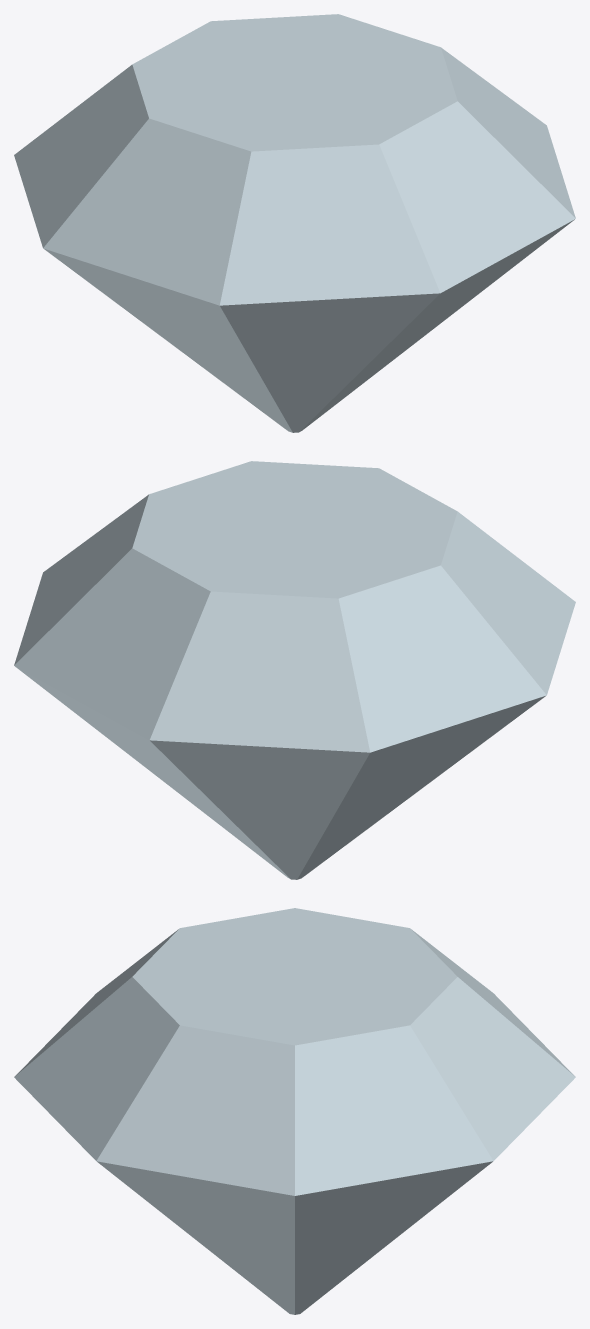
File: Diamond.fbx
3 renders of one model, top to bottom at view 1: azimuth 30°, elevation 25°; view 2: azimuth 150°, elevation 25°; view 3: azimuth 270°, elevation 25°, orthographic. The views are drawn at different scales.
Visible parts, largest first — view 1: Diamond; view 2: Diamond; view 3: Diamond.
Part boxes in pixels (left/top/right/bottom): Diamond: left=14, top=14, right=575, bottom=432; Diamond: left=14, top=461, right=575, bottom=879; Diamond: left=14, top=908, right=575, bottom=1314.
Bounding box in the file's own units: 0.76 × 0.5 × 0.76.
